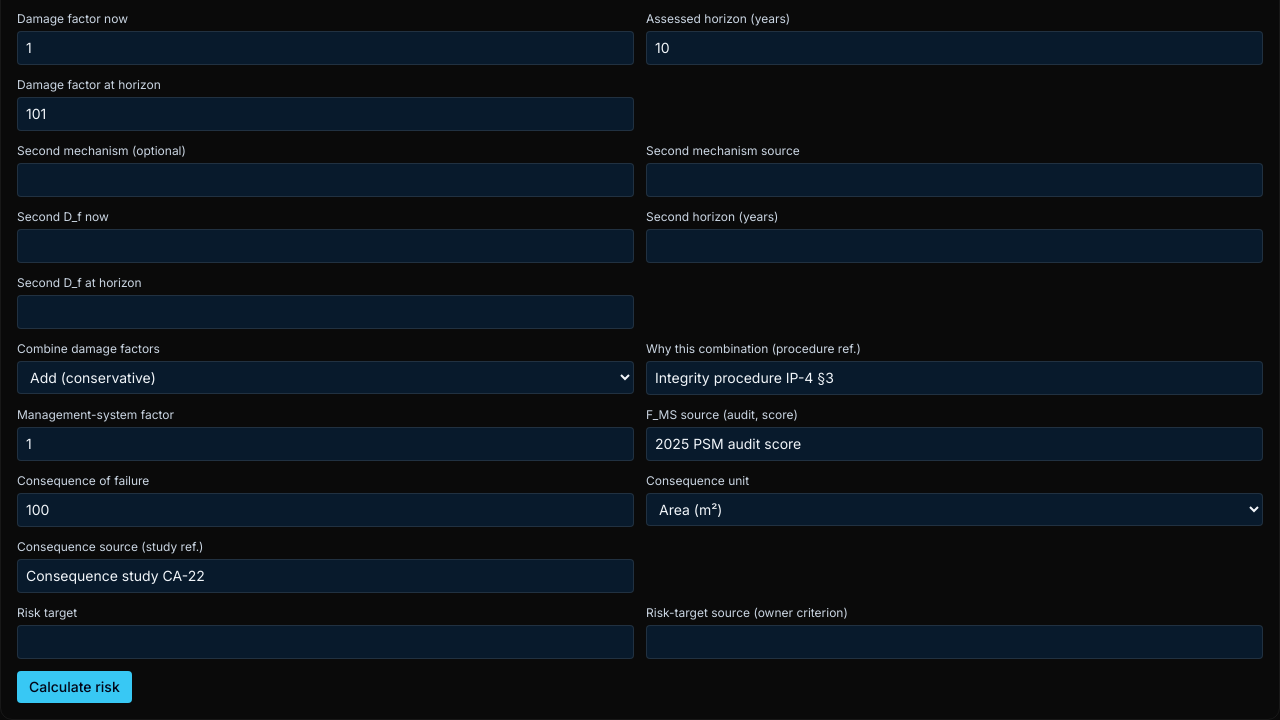
Test: RbiPlanner › calculates without recording, then adopts through record_inspection_plan
This screenshot has width=1280, height=720.
Earlier steps of the test are not shown.
(page scrolled)
Type "0.05" into the number field labelled "Risk target".
click(326, 642); type("0.05")  # box [17,625,634,659]
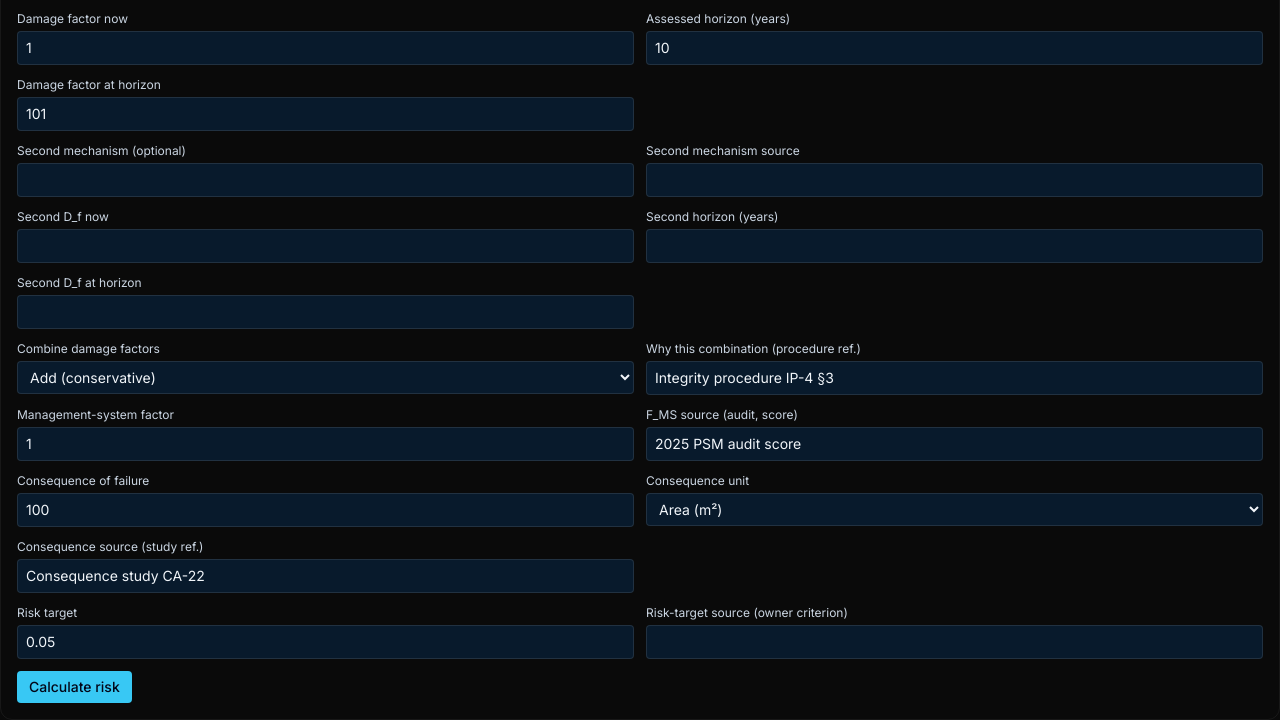
Type "Integrity risk target IRT-1" into the field labelled "Risk-target source (owner criterion)".
click(954, 642); type("Integrity risk target IRT-1")  # box [646,625,1263,659]
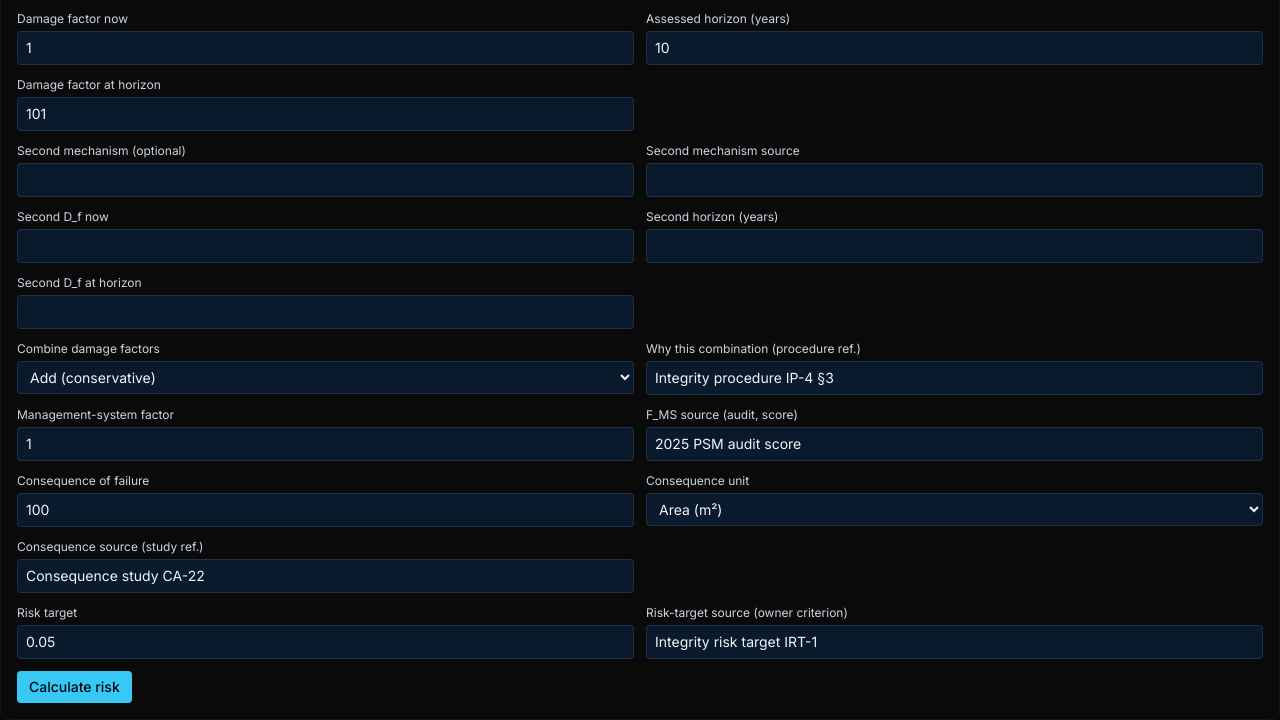
Click the button "Calculate risk".
click(74, 687)  # box [17,671,132,703]
(page scrolled)
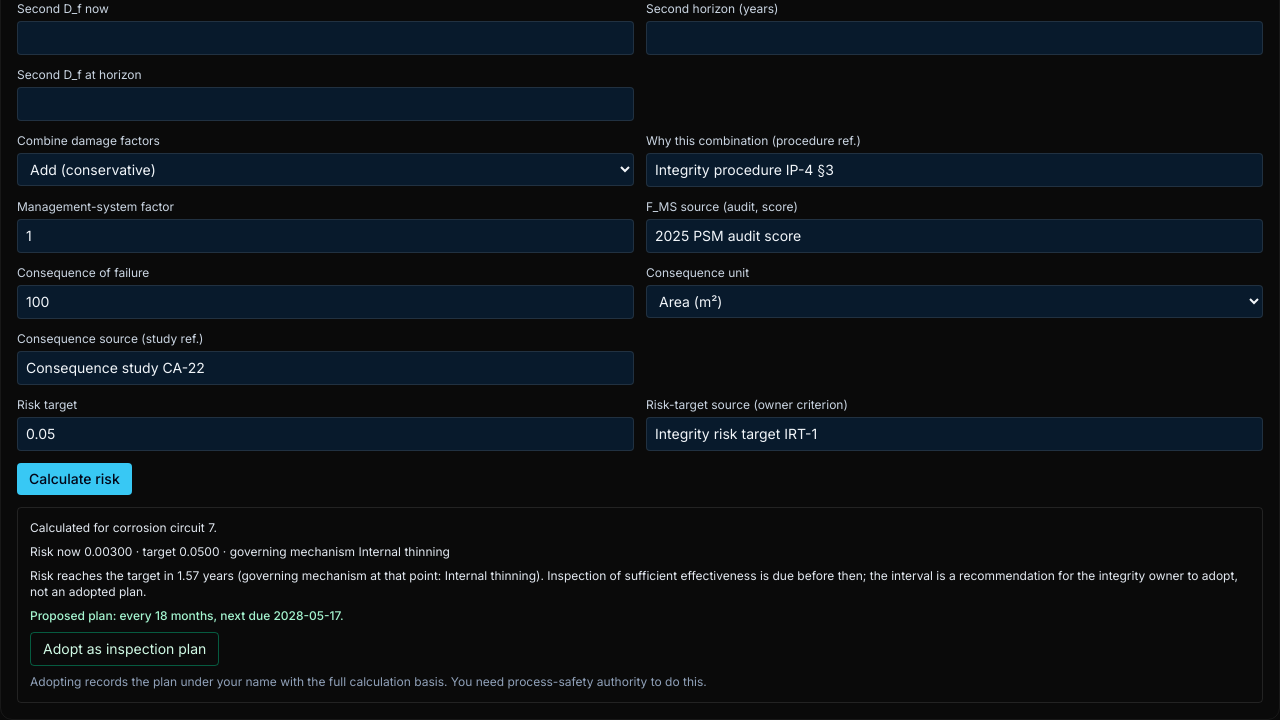
Expected: the text "Proposed plan: every 18 months, next due 2028-05-17." is shown, [30,608,344,623]
Click the button "Adopt as inspection plan".
click(125, 649)  # box [30,632,219,666]
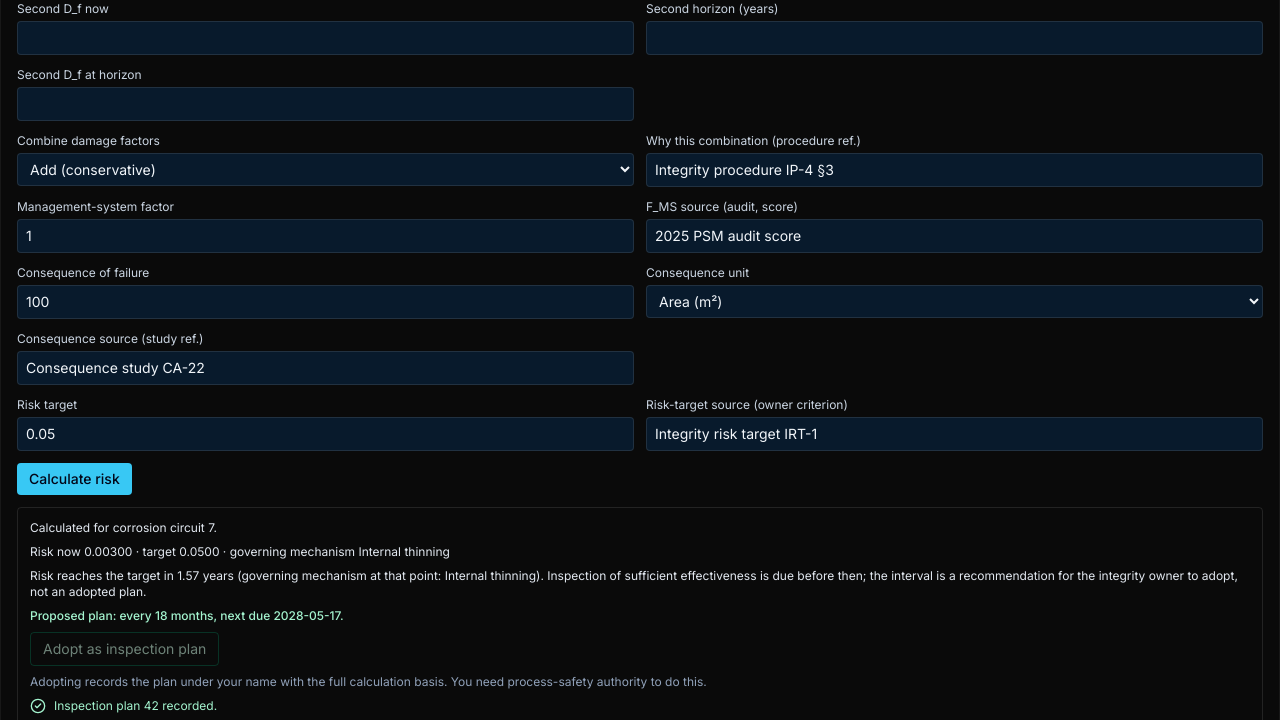
Expected: the text "Inspection plan 42 recorded." is shown, [30,698,217,714]
